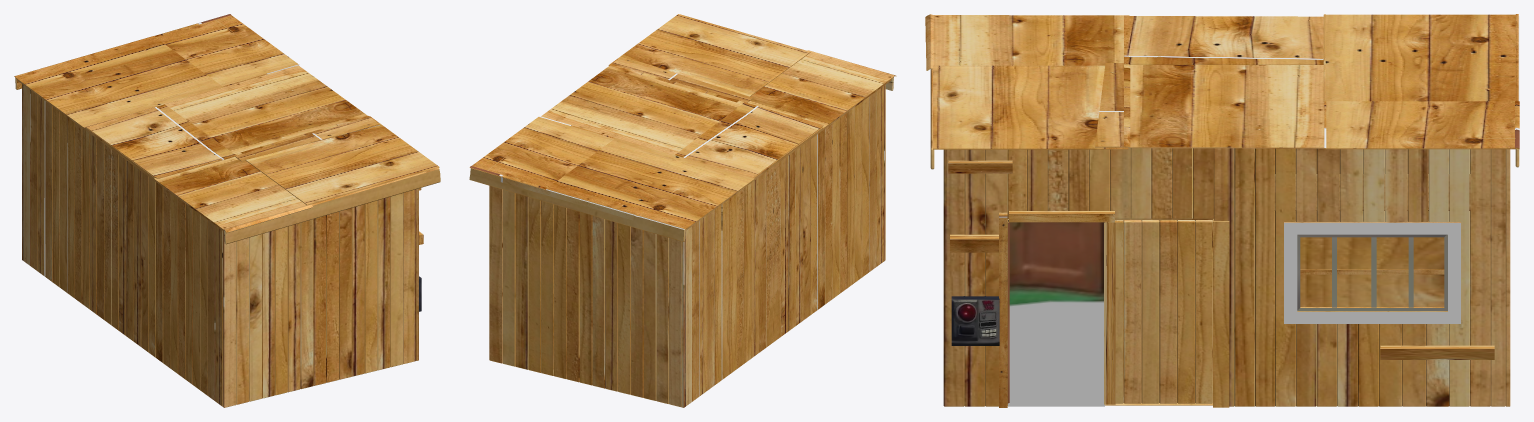
Rendered from labo.fbx.
3 views of the same model, side by side, from view 1: azimuth 30°, elevation 25°; view 2: azimuth 150°, elevation 25°; view 3: azimuth 270°, elevation 25° (orthographic). The views are drawn at different scales.
Visible parts, largest first — view 1: NewGarage; view 2: NewGarage; view 3: NewGarage.
Boxes of the visible parts, x1,y1,x2,y2 form: NewGarage: (14, 14, 440, 407); NewGarage: (469, 14, 896, 407); NewGarage: (925, 14, 1519, 407).
Size of the model in its own units: 1899 by 1617 by 3220.
